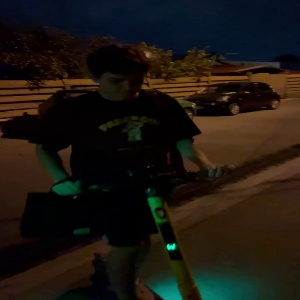human on a scooter: (19, 39, 232, 300)
